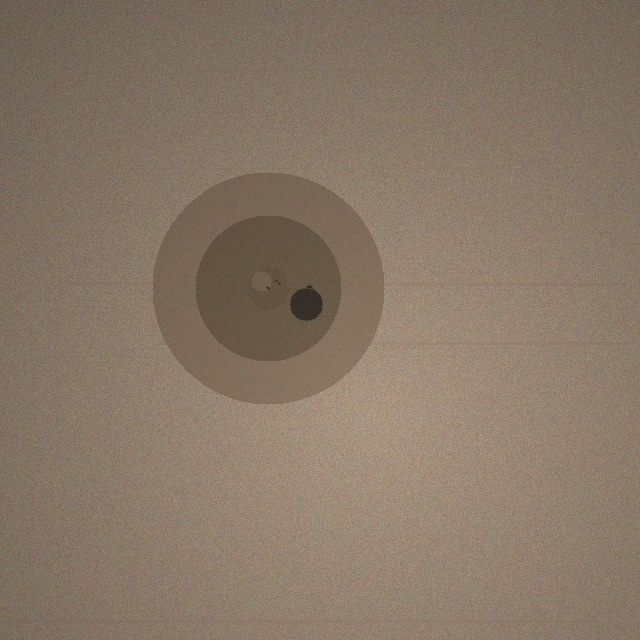shrinkage: (152, 172, 384, 404)
